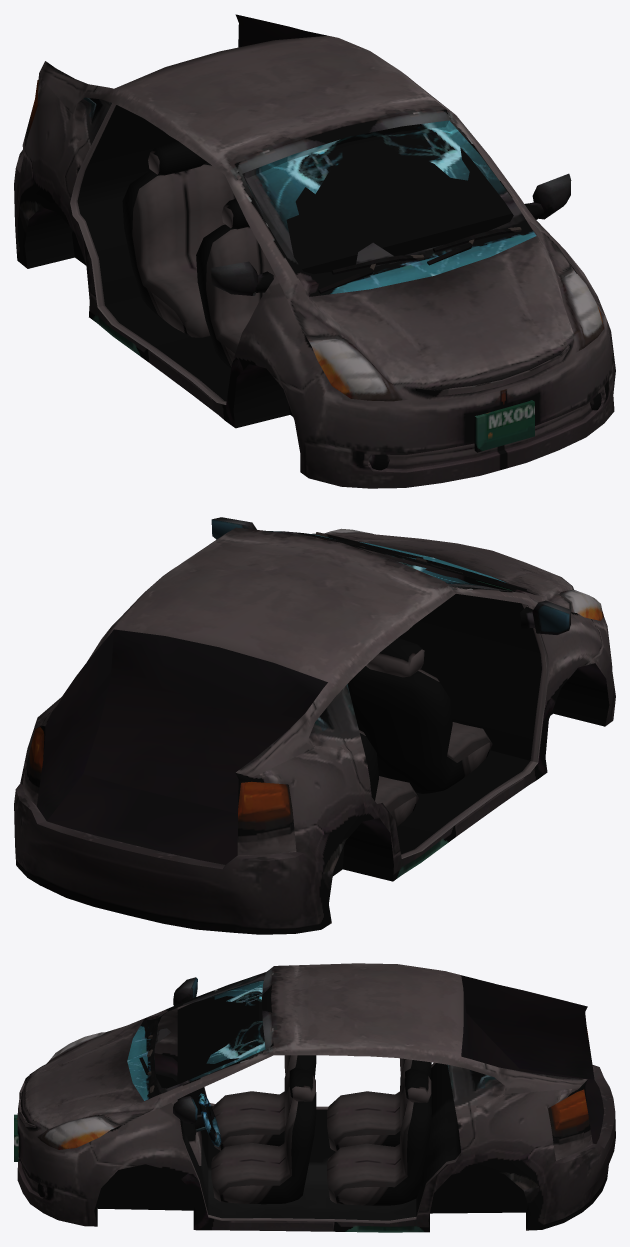
File: Car1.fbx
3 views of the same model, one above another, from view 1: azimuth 30°, elevation 25°; view 2: azimuth 150°, elevation 25°; view 3: azimuth 270°, elevation 25° (orthographic). The views are drawn at different scales.
Visible parts, largest first — view 1: prop_desert_car_06_prop_desert_car_06_0; view 2: prop_desert_car_06_prop_desert_car_06_0; view 3: prop_desert_car_06_prop_desert_car_06_0.
Part boxes in pixels (x1,y1,x2,y2): prop_desert_car_06_prop_desert_car_06_0: (14,14,615,488); prop_desert_car_06_prop_desert_car_06_0: (14,517,615,934); prop_desert_car_06_prop_desert_car_06_0: (14,963,615,1232).
Size of the model in its own units: 1.96 by 1.19 by 3.63.
